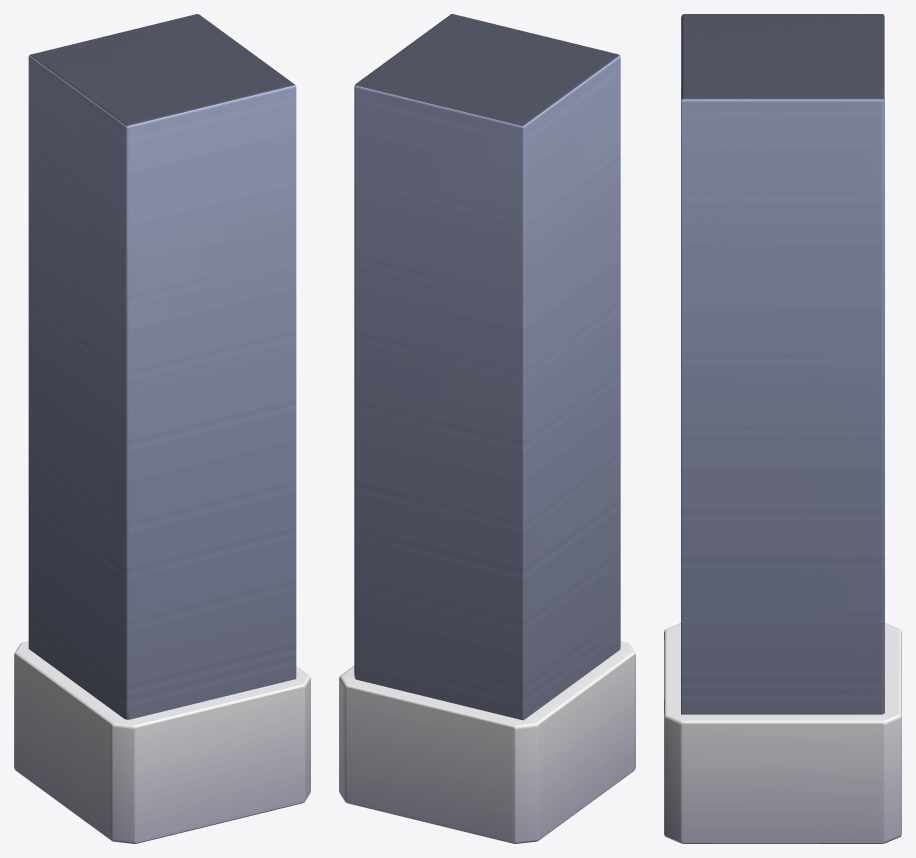
The model's file is column-wide.glb.
3 renders of one model, left to right at view 1: azimuth 30°, elevation 25°; view 2: azimuth 150°, elevation 25°; view 3: azimuth 270°, elevation 25°, orthographic. The views are drawn at different scales.
Parts seen in each view (by area): view 1: column-wide; view 2: column-wide; view 3: column-wide.
Part boxes in pixels (left/top/right/bottom): column-wide: left=14, top=14, right=310, bottom=843; column-wide: left=339, top=14, right=635, bottom=843; column-wide: left=664, top=14, right=901, bottom=843.
Size of the model in its own units: 0.7 by 2.4 by 0.7.
Materials: 1 (1 with a texture image).
